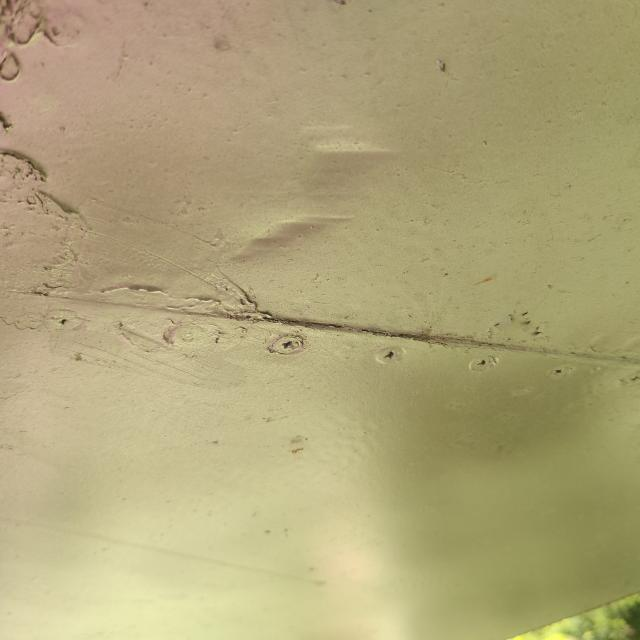dent: (218, 107, 404, 284)
